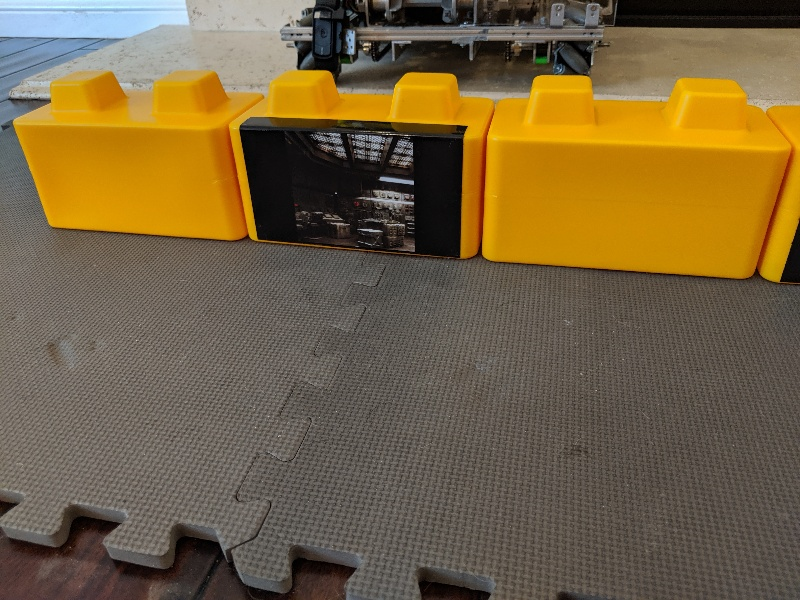Skystone: (227, 102, 476, 267)
